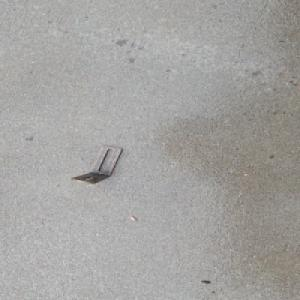MetalPart: (70, 145, 123, 184)
